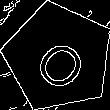O_NE: (25, 24, 92, 90)
